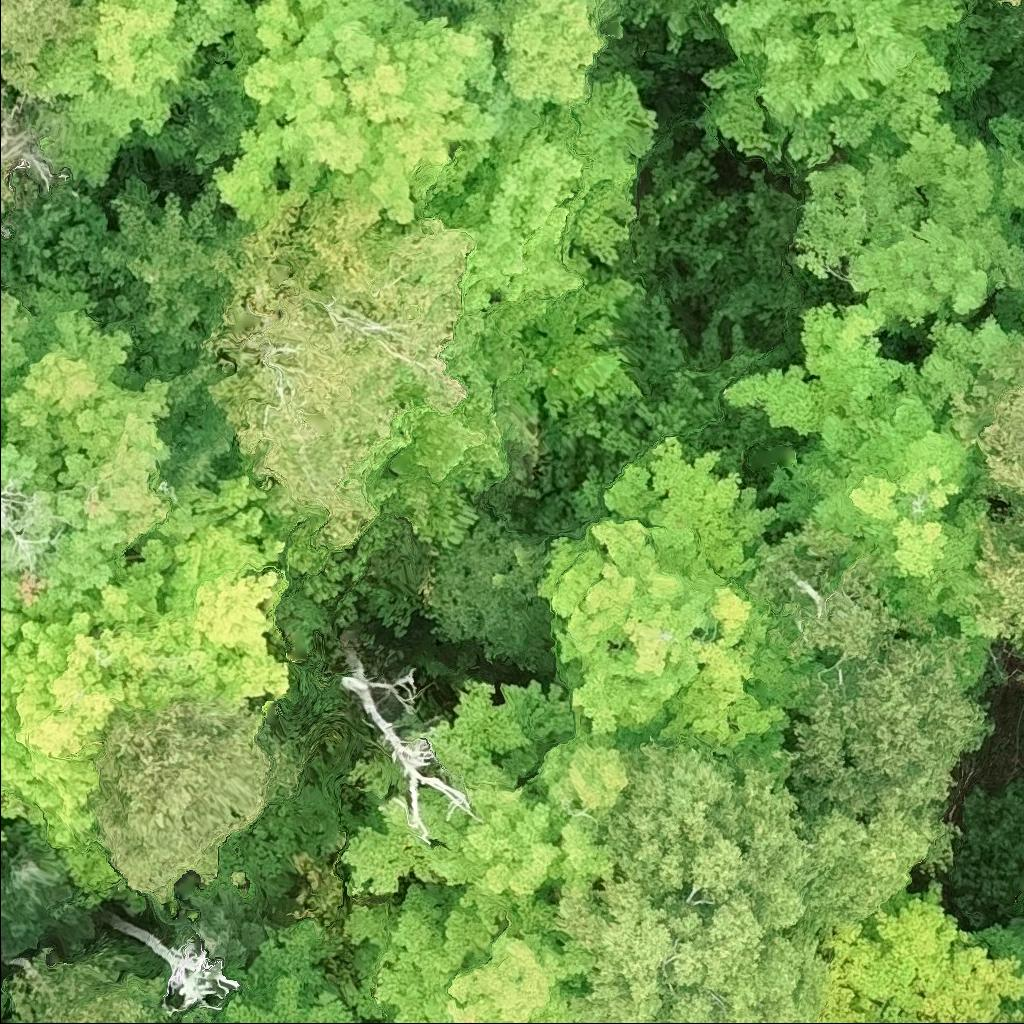crown: (722, 300, 1023, 692), (548, 737, 945, 1023), (535, 436, 858, 782), (0, 475, 287, 853), (336, 678, 641, 1023), (199, 192, 475, 550), (0, 264, 223, 628), (208, 0, 504, 235), (786, 551, 1000, 874), (430, 73, 662, 317), (786, 106, 1023, 344), (692, 0, 995, 172), (28, 0, 253, 188), (91, 699, 278, 909), (814, 879, 1023, 1023), (415, 0, 618, 108), (177, 916, 357, 1023), (100, 909, 238, 1023), (11, 947, 173, 1023), (0, 828, 89, 960), (0, 0, 95, 94), (967, 517, 1023, 658), (975, 386, 1023, 539), (0, 283, 26, 340), (0, 164, 16, 239), (996, 0, 1023, 10), (0, 828, 9, 843), (1017, 666, 1023, 686), (1016, 1021, 1023, 1023)
